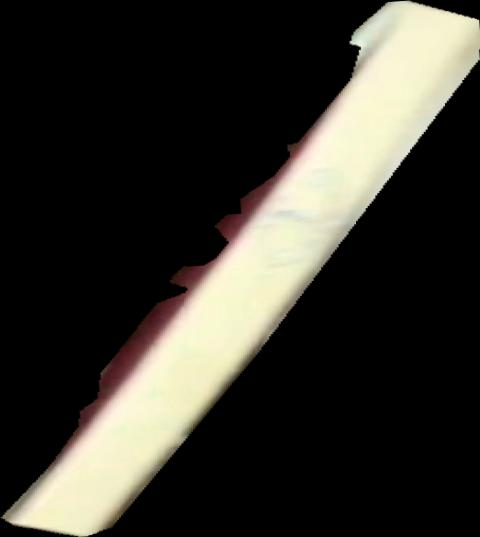backward: (1, 1, 480, 537)
